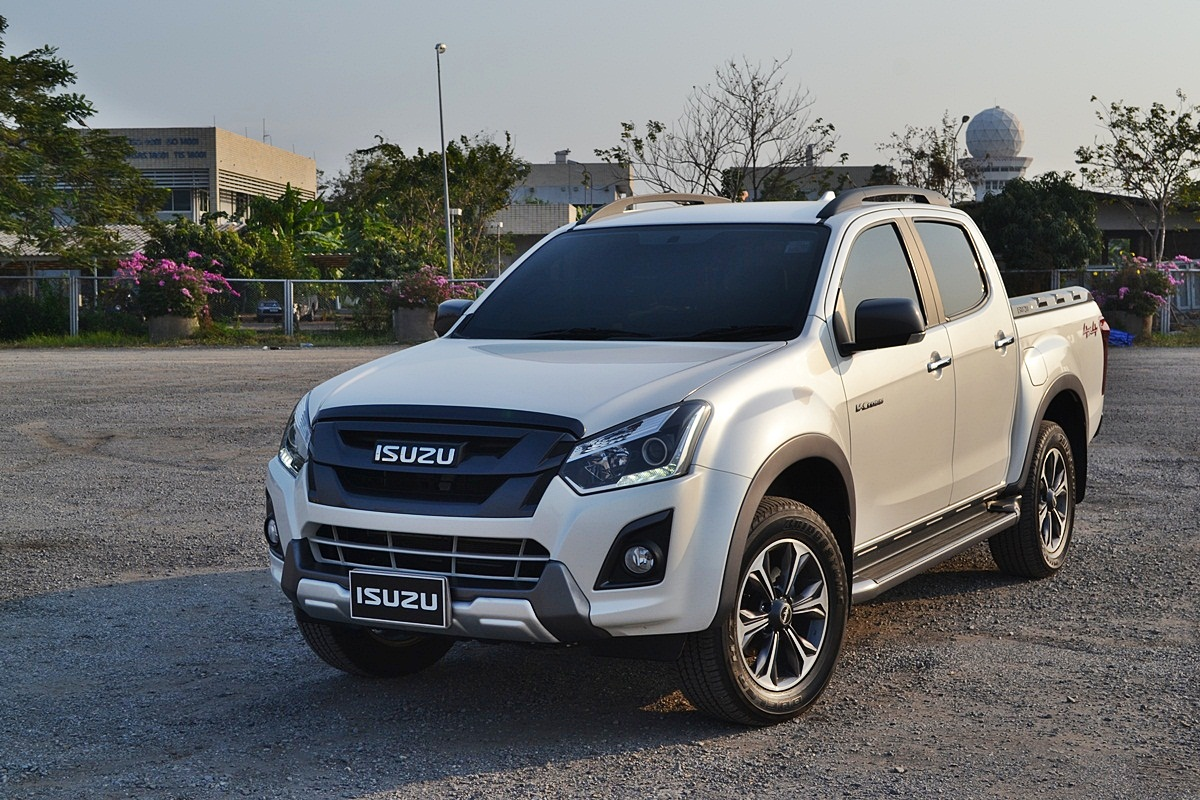pickup: (261, 192, 1107, 724)
